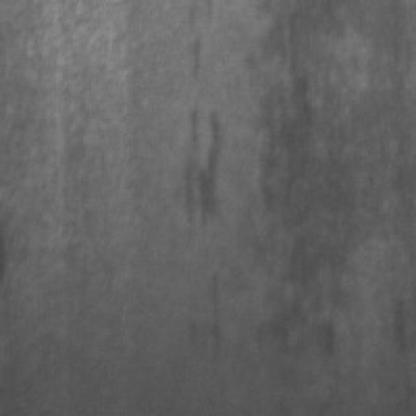inclusion: (266, 8, 368, 370), (175, 94, 237, 239), (198, 262, 239, 370)
